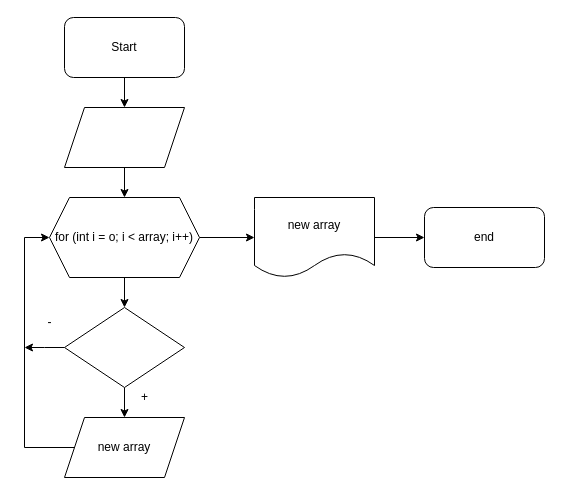
Some shapes in this 562 by 495 pixel diagram are drawn without their labels. Here are the shapes that lost their labels. From the top down, the centre of each, then its label:
(124,137): Ввод массива array
(124,347): если длина элемента < 4
